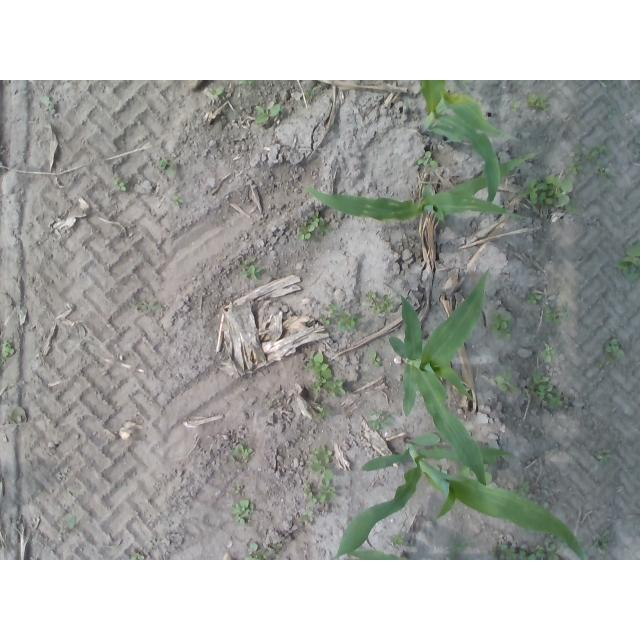Maize: (330, 434, 587, 560), (384, 267, 490, 487), (301, 149, 540, 224), (419, 80, 518, 213), (342, 546, 410, 560)
Weeds: (517, 173, 580, 215), (307, 351, 346, 398), (309, 445, 339, 503), (489, 537, 563, 560), (458, 454, 502, 486), (528, 373, 565, 408), (320, 303, 362, 332), (611, 241, 640, 282), (297, 210, 332, 242), (595, 338, 625, 369), (365, 289, 396, 315), (487, 311, 512, 341), (494, 371, 523, 396), (244, 542, 281, 560), (238, 256, 263, 281), (255, 101, 282, 124), (232, 499, 255, 526), (542, 304, 571, 325), (565, 145, 584, 176), (229, 443, 252, 466), (585, 143, 608, 165), (368, 410, 393, 430), (593, 528, 612, 554), (129, 542, 155, 560), (526, 93, 550, 112), (511, 475, 530, 497), (157, 157, 176, 179), (417, 151, 439, 168), (449, 533, 467, 553), (110, 173, 128, 192), (299, 87, 317, 105), (540, 342, 556, 362), (303, 484, 318, 505), (593, 165, 615, 179), (137, 300, 160, 312), (596, 449, 613, 465), (369, 351, 383, 368), (314, 405, 331, 419), (526, 291, 543, 304), (41, 95, 54, 112), (209, 86, 224, 99), (302, 509, 315, 524), (0, 341, 12, 357), (391, 534, 405, 546), (169, 195, 183, 205), (511, 100, 521, 113), (239, 81, 257, 88), (68, 516, 76, 529), (453, 80, 472, 85), (231, 485, 241, 491)
